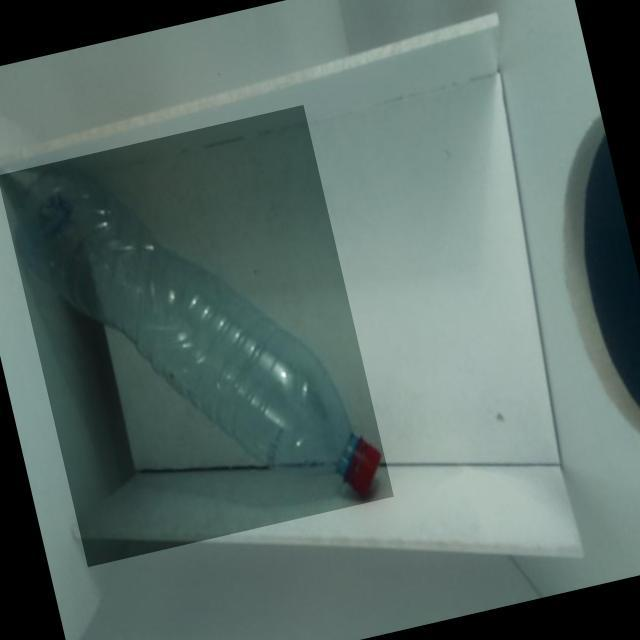good: (0, 105, 393, 567)
